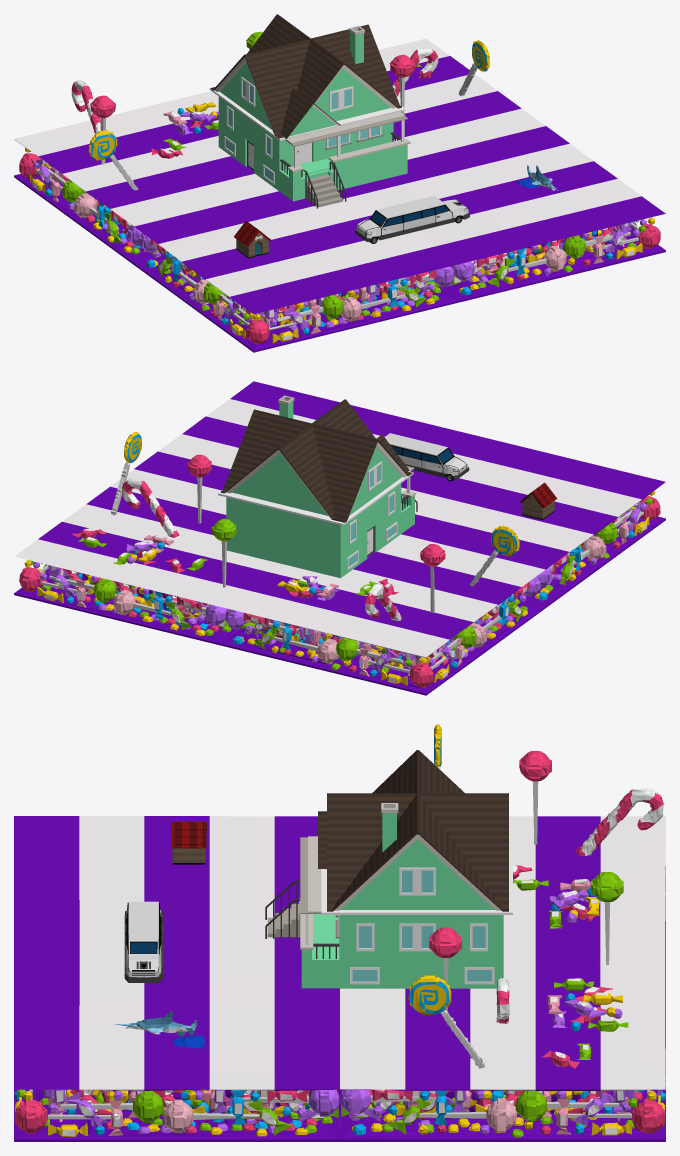
The picture shows the model from 3 angles, top to bottom: view 1: azimuth 30°, elevation 25°; view 2: azimuth 150°, elevation 25°; view 3: azimuth 270°, elevation 25°; orthographic projection. The views are drawn at different scales.
Visible parts, largest first — view 1: TERRAIN_CANDY, Cube.352, VEHICLES_LIMOUSINE, OBJRANDOM_DOGHOUSE; view 2: TERRAIN_CANDY, Cube.352, VEHICLES_LIMOUSINE, OBJRANDOM_DOGHOUSE; view 3: TERRAIN_CANDY, Cube.352, VEHICLES_LIMOUSINE, OBJRANDOM_DOGHOUSE, ANIMAL_PEZ_ESPADA.
Part boxes in pixels (x1,y1,x2,y2): TERRAIN_CANDY: [14, 31, 665, 352]; Cube.352: [209, 14, 410, 208]; VEHICLES_LIMOUSINE: [355, 196, 469, 243]; OBJRANDOM_DOGHOUSE: [234, 221, 271, 258]; TERRAIN_CANDY: [14, 381, 665, 695]; Cube.352: [218, 395, 417, 578]; VEHICLES_LIMOUSINE: [375, 433, 469, 481]; OBJRANDOM_DOGHOUSE: [520, 482, 557, 519]; TERRAIN_CANDY: [14, 724, 665, 1141]; Cube.352: [265, 750, 512, 988]; VEHICLES_LIMOUSINE: [124, 901, 162, 982]; OBJRANDOM_DOGHOUSE: [171, 822, 206, 864]; ANIMAL_PEZ_ESPADA: [114, 1011, 204, 1048].
Size of the model in its own units: 4059 by 1562 by 4000.
37 materials, 2 textured.
